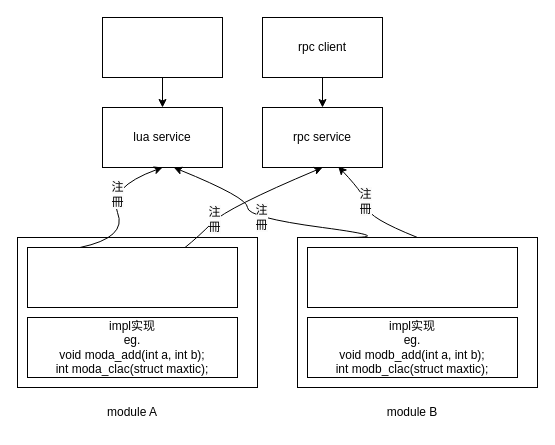
This 555x445 diagram has some shape labels left out. Each missing label, with the centre of its shape:
interface接口 eg. void moda_add(int a, int b); int moda_clac(struct maxtic);: [132,277]
interface接口 eg. void modb_add(int a, int b); int modb_clac(struct maxtic);: [412,277]
lua 脚本文件: [162,47]
